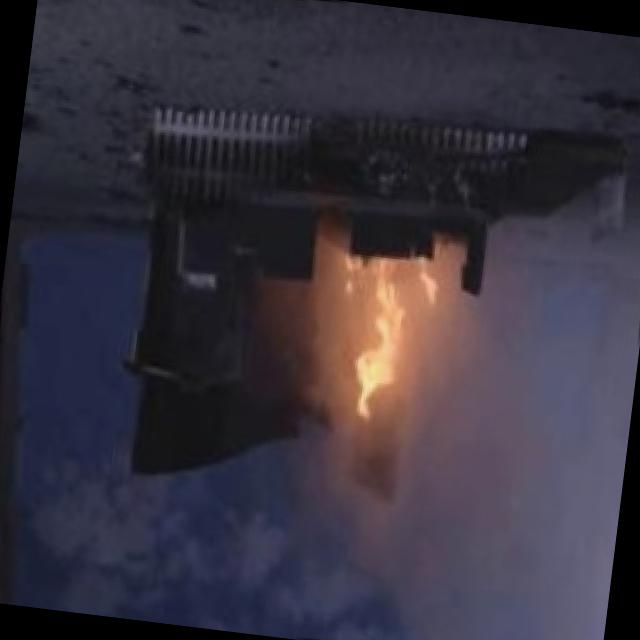fire: (293, 210, 472, 437)
smoke: (318, 381, 631, 640)
